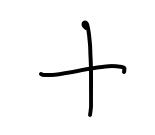plus: (39, 21, 127, 117)
